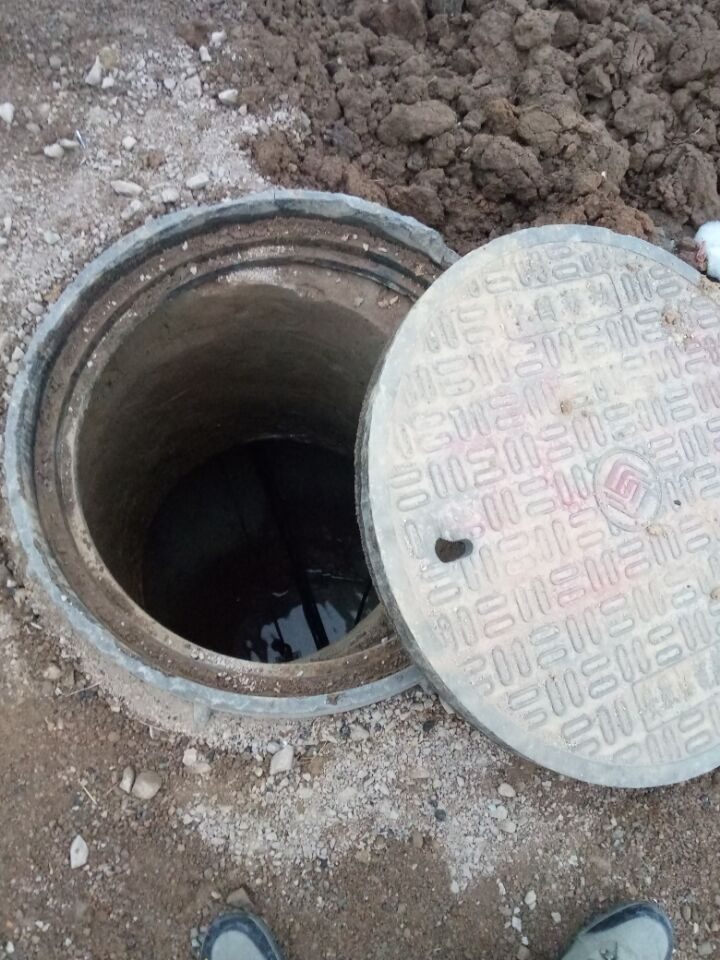uncovered: (3, 190, 719, 792)
